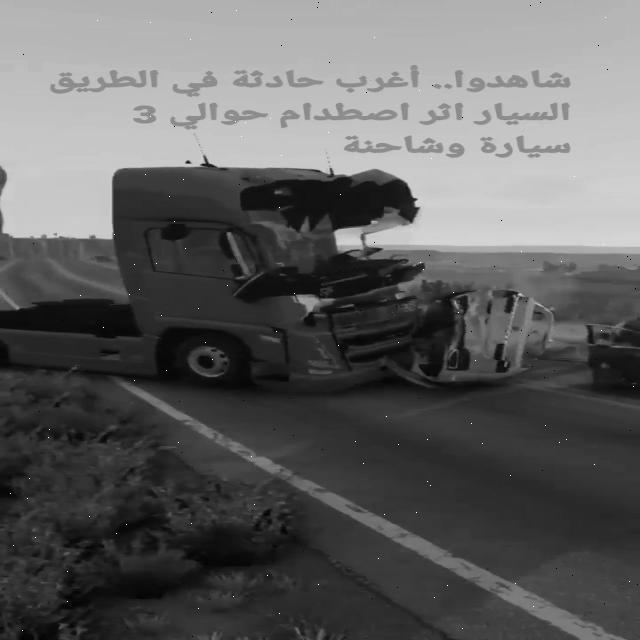accident: (116, 157, 540, 407)
